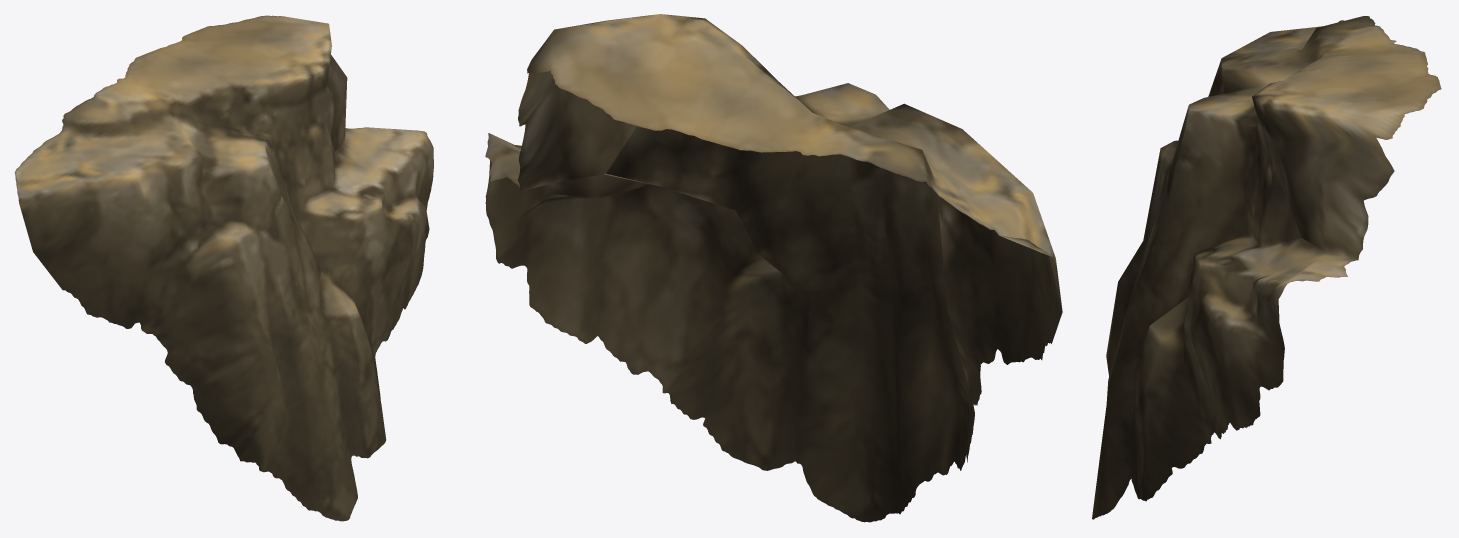
The model's file is xssm_rock_2_01.FBX.
The picture shows the model from 3 angles, left to right: view 1: azimuth 30°, elevation 25°; view 2: azimuth 150°, elevation 25°; view 3: azimuth 270°, elevation 25°; orthographic projection. The views are drawn at different scales.
Parts seen in each view (by area): view 1: xssm_rock_2_01; view 2: xssm_rock_2_01; view 3: xssm_rock_2_01.
Part boxes in pixels (x1,y1,x2,y2): xssm_rock_2_01: [14, 15, 433, 521]; xssm_rock_2_01: [485, 14, 1062, 522]; xssm_rock_2_01: [1092, 16, 1441, 519].
Size of the model in its own units: 357 by 331 by 233.
